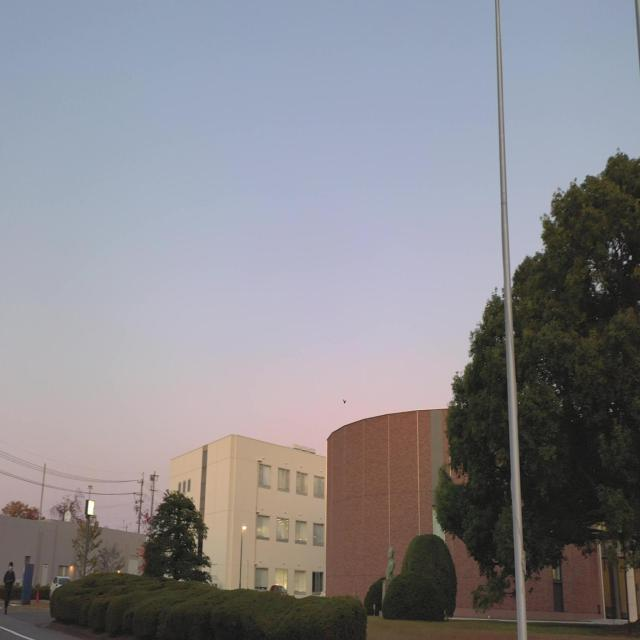Birds: (340, 397, 348, 405)
